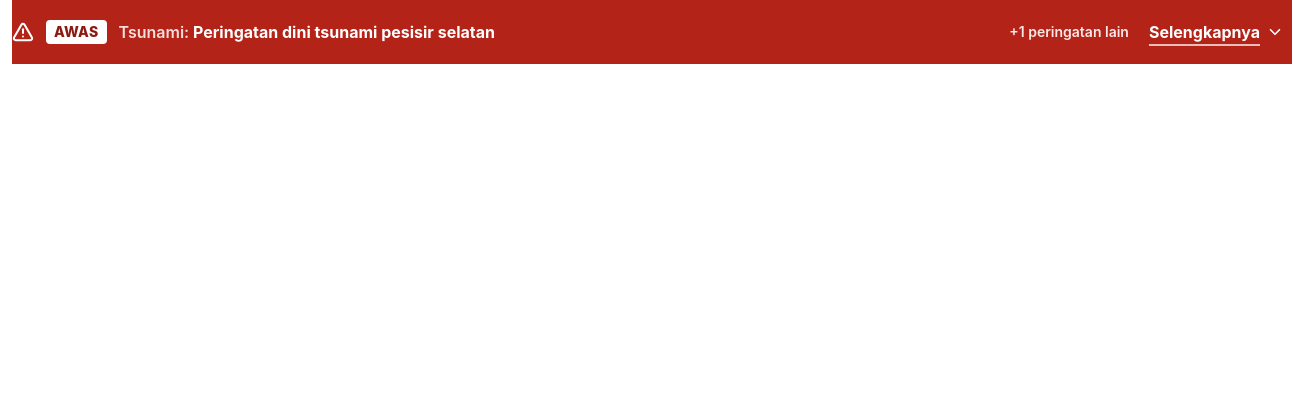
Test: DisasterAlertBar › opens the details of every alert, with the SIGAP link in a new tab
Click the button "Selengkapnya": (1216, 32) [1141,10,1292,54]
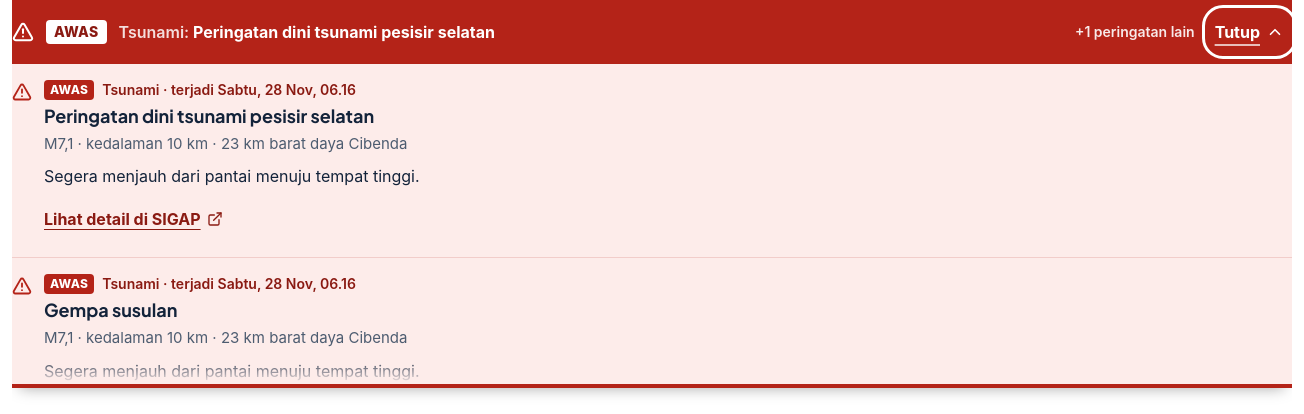
Now the button named "Selengkapnya" is expanded, box [1207,10,1292,54]
Now the number of list items is 2, box [12,80,1292,258]; [12,274,420,381]
Now the list shows "Segera menjauh dari pantai menuju tempat tinggi.", box [44,166,420,186]
